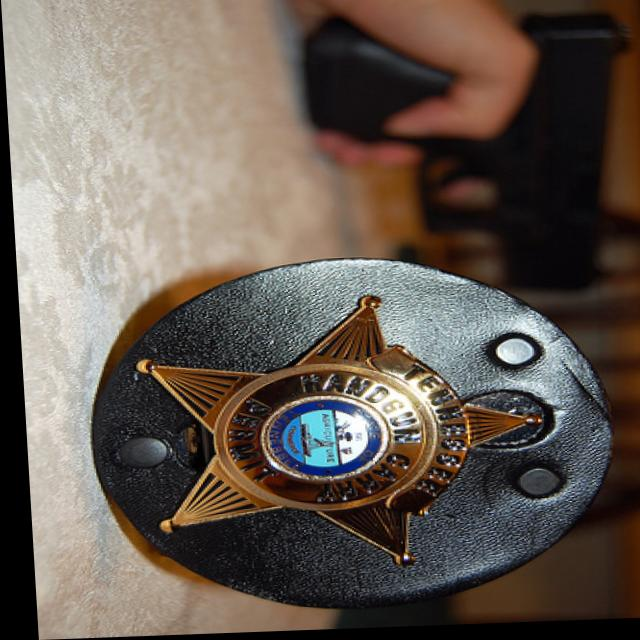handgun: (301, 11, 640, 301)
